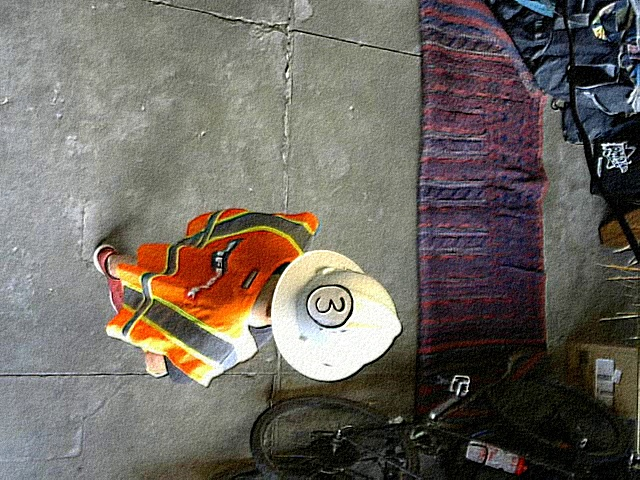three: (308, 284, 355, 329)
